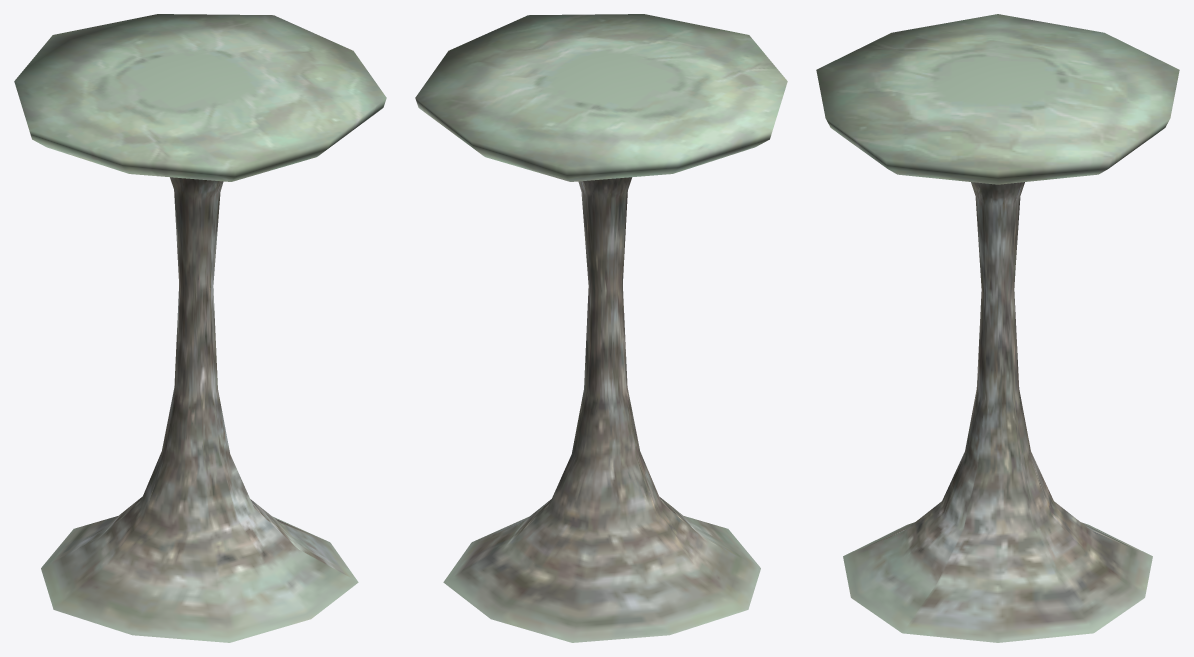
File: INST_TROLLHOLE_SHELFSTONE3M.fbx
3 renders of one model, left to right at view 1: azimuth 30°, elevation 25°; view 2: azimuth 150°, elevation 25°; view 3: azimuth 270°, elevation 25°, orthographic.
Visible parts, largest first — view 1: INST_TROLLHOLE_SHELFSTONE3M; view 2: INST_TROLLHOLE_SHELFSTONE3M; view 3: INST_TROLLHOLE_SHELFSTONE3M.
Part boxes in pixels (left/top/right/bottom): INST_TROLLHOLE_SHELFSTONE3M: left=14, top=14, right=386, bottom=642; INST_TROLLHOLE_SHELFSTONE3M: left=415, top=14, right=787, bottom=642; INST_TROLLHOLE_SHELFSTONE3M: left=816, top=14, right=1179, bottom=642.
Size of the model in its own units: 21244 by 31418 by 20736.
Materials: 2 (2 with a texture image).
